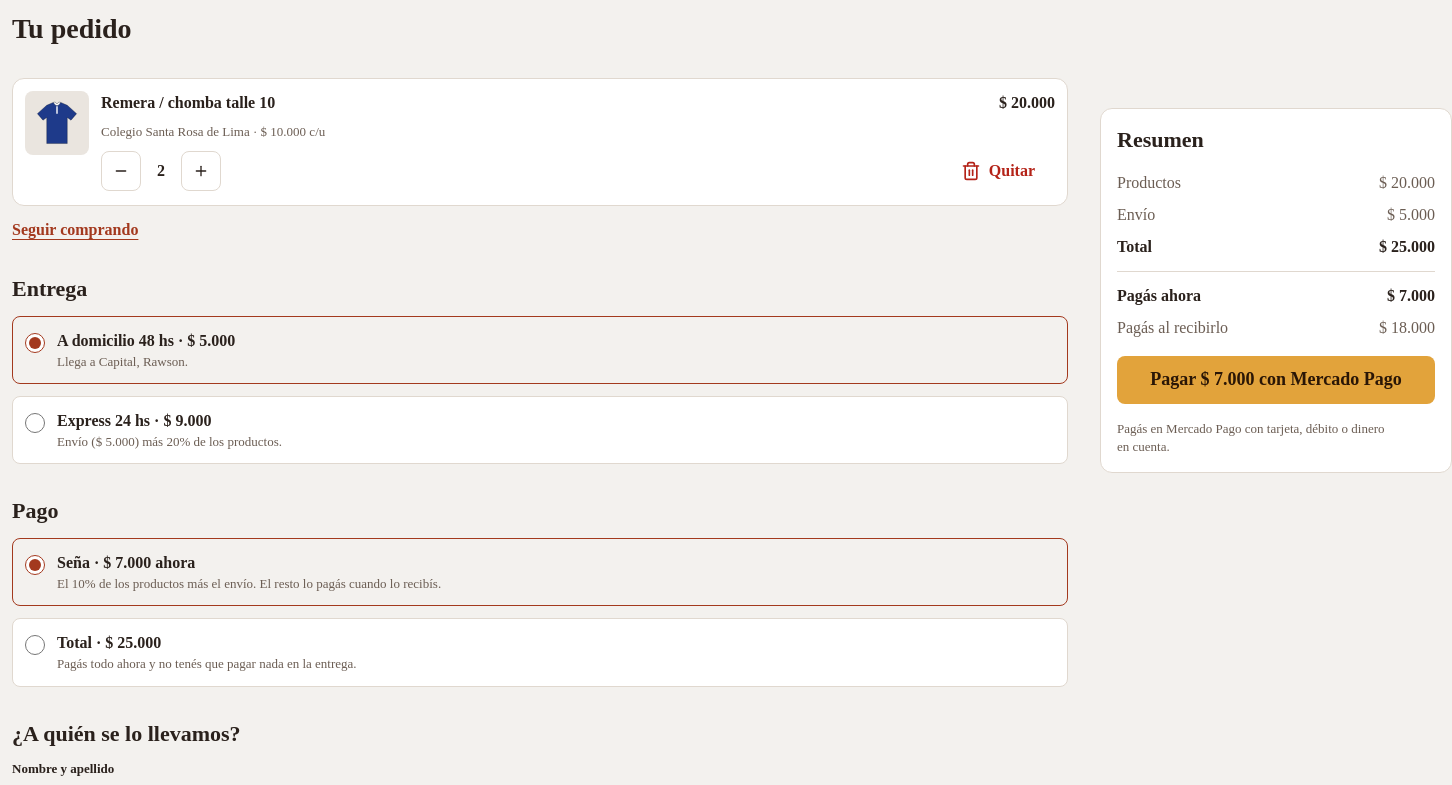
Test: carrito y checkout › calcula los totales según entrega y pago
The width and height of the screenshot is (1452, 785).
Expected: the text "$ 25.000" is shown, x1=1379 y1=235 x2=1435 y2=259
Expected: the text "$ 7.000" is shown, x1=1387 y1=284 x2=1435 y2=308
Click the radio button labelled "Express 24 hs" at (35, 423), box x1=25 y1=413 x2=45 y2=433
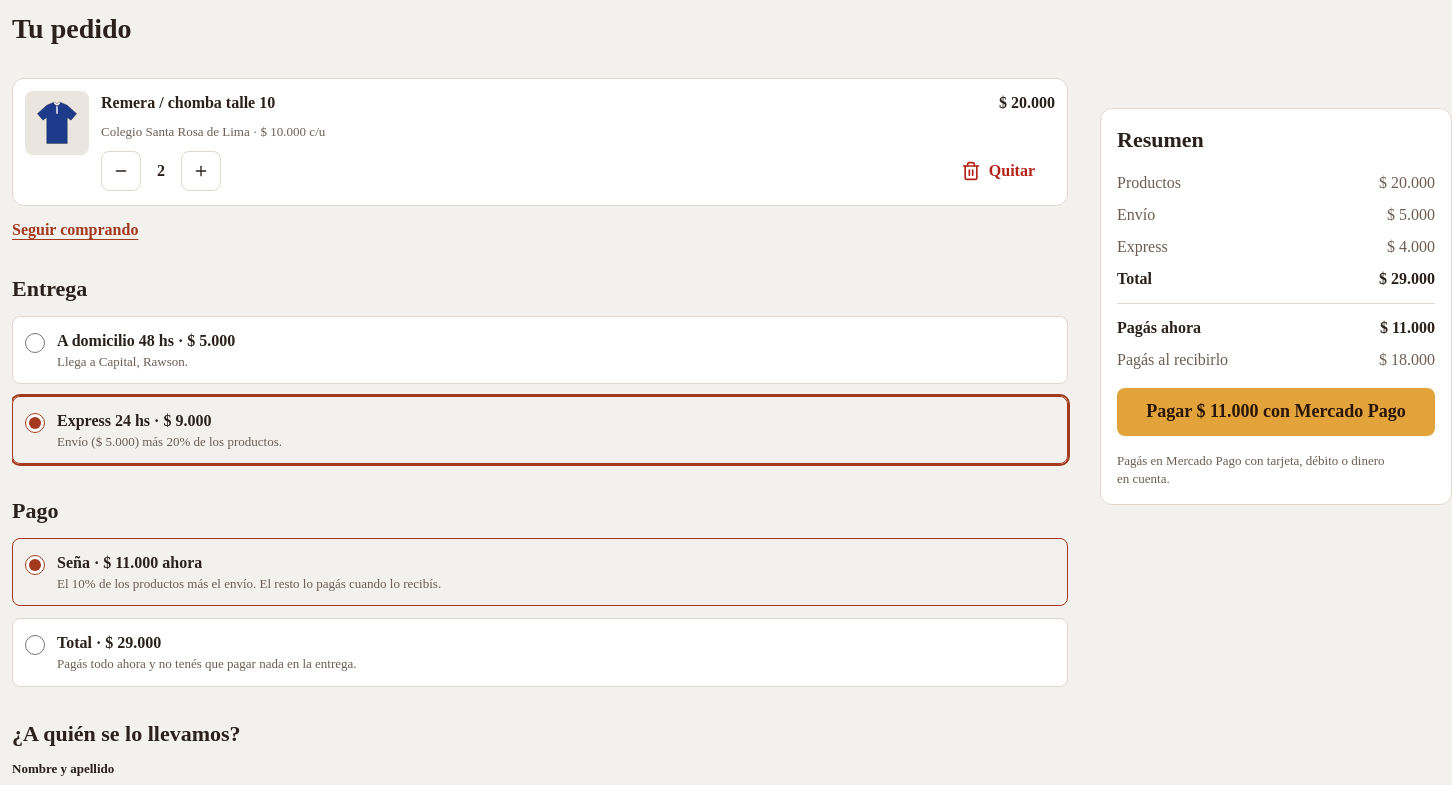
Click the radio button labelled "Total" at (35, 645), box x1=25 y1=635 x2=45 y2=655
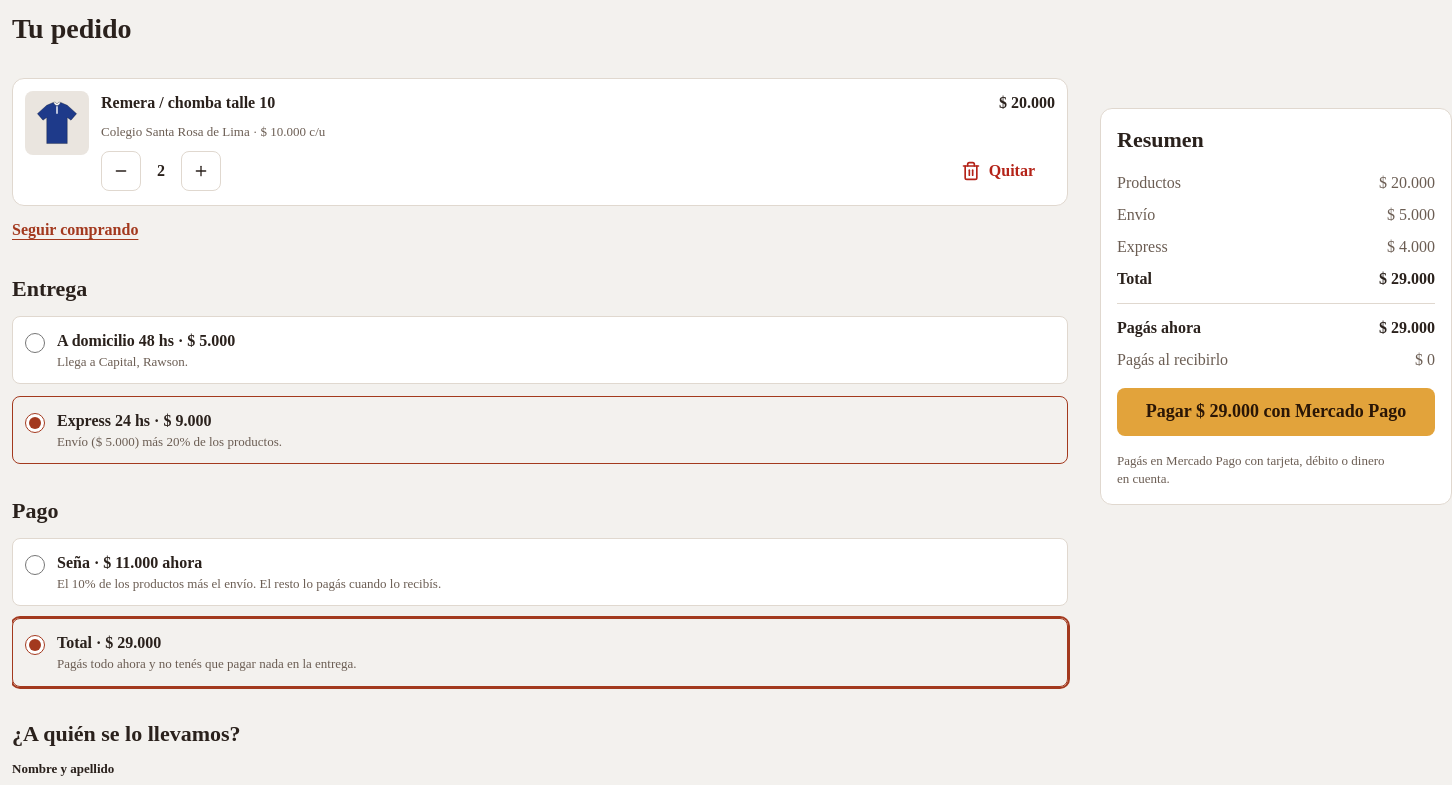
Expected: the text "$ 4.000" is shown, x1=1387 y1=235 x2=1435 y2=259
Expected: the button "Pagar $ 29.000 con Mercado Pago" is shown, x1=1117 y1=388 x2=1435 y2=436
Click the button named "Una más de Remera / chomba talle 10" at (201, 171), box x1=181 y1=151 x2=221 y2=191
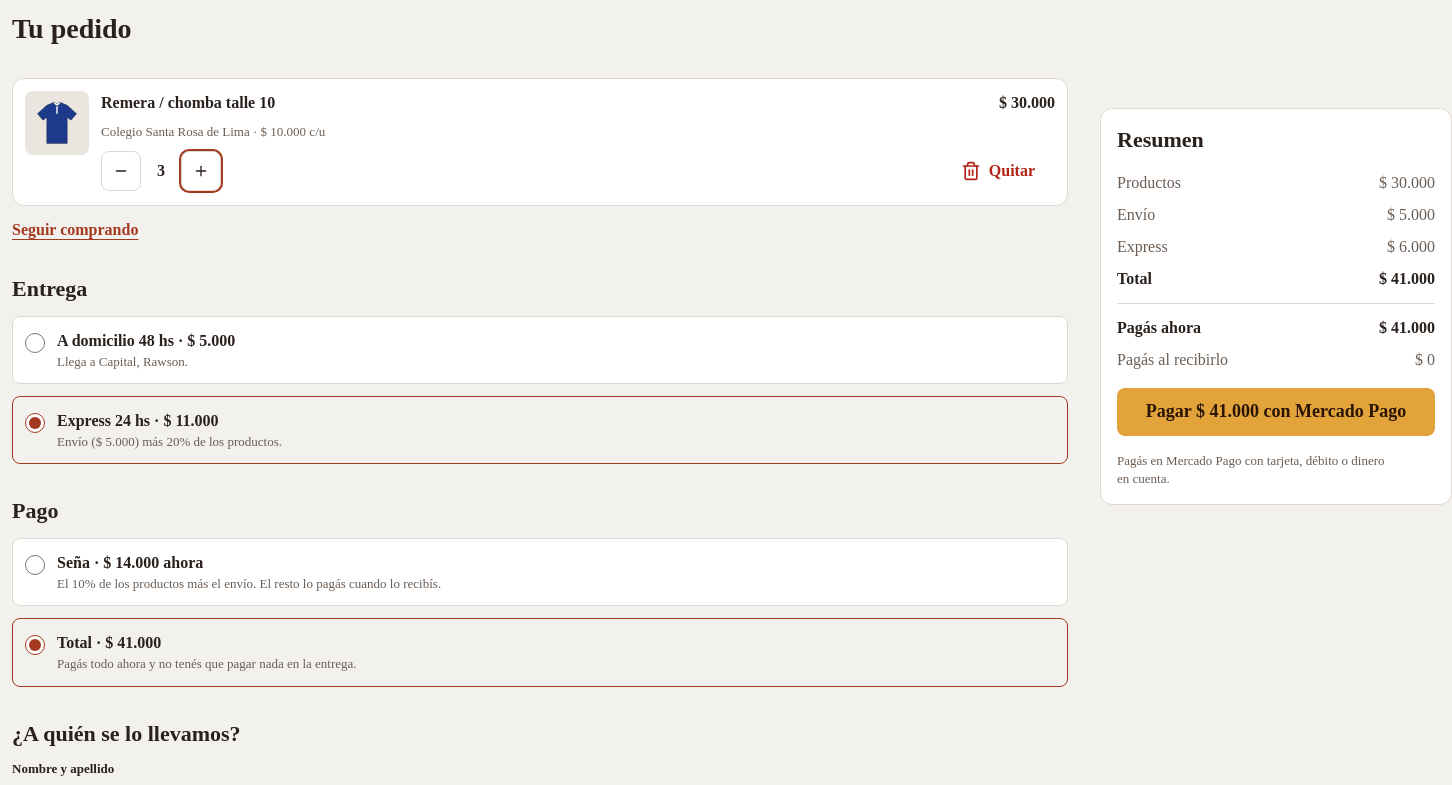
Expected: the text "$ 30.000" below "Resumen" is shown, x1=1379 y1=174 x2=1435 y2=191
Click the button with aria-label "Quitar Remera / chomba talle 10" at (998, 171), box x1=941 y1=149 x2=1055 y2=193
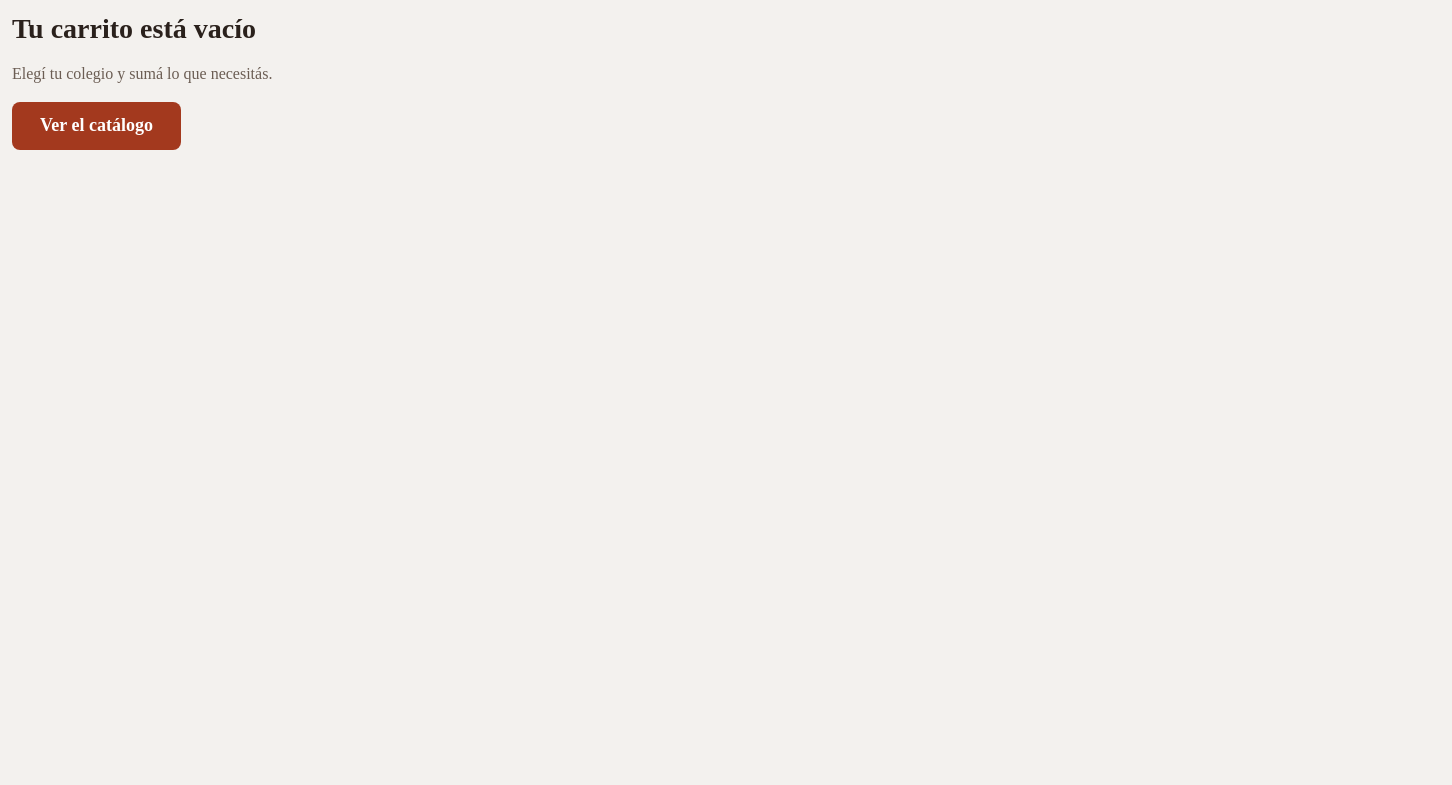
Expected: the heading "Tu carrito está vacío" is shown, x1=12 y1=12 x2=256 y2=46
